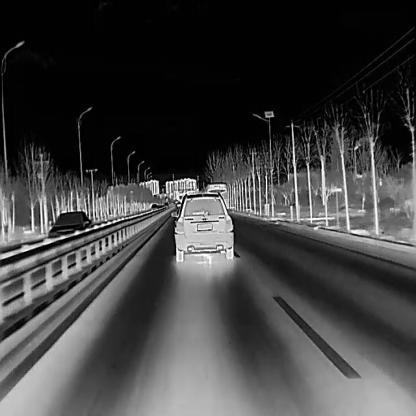car: (170, 189, 233, 262), (46, 209, 94, 250), (205, 181, 228, 213), (149, 203, 158, 213), (164, 201, 168, 206)
